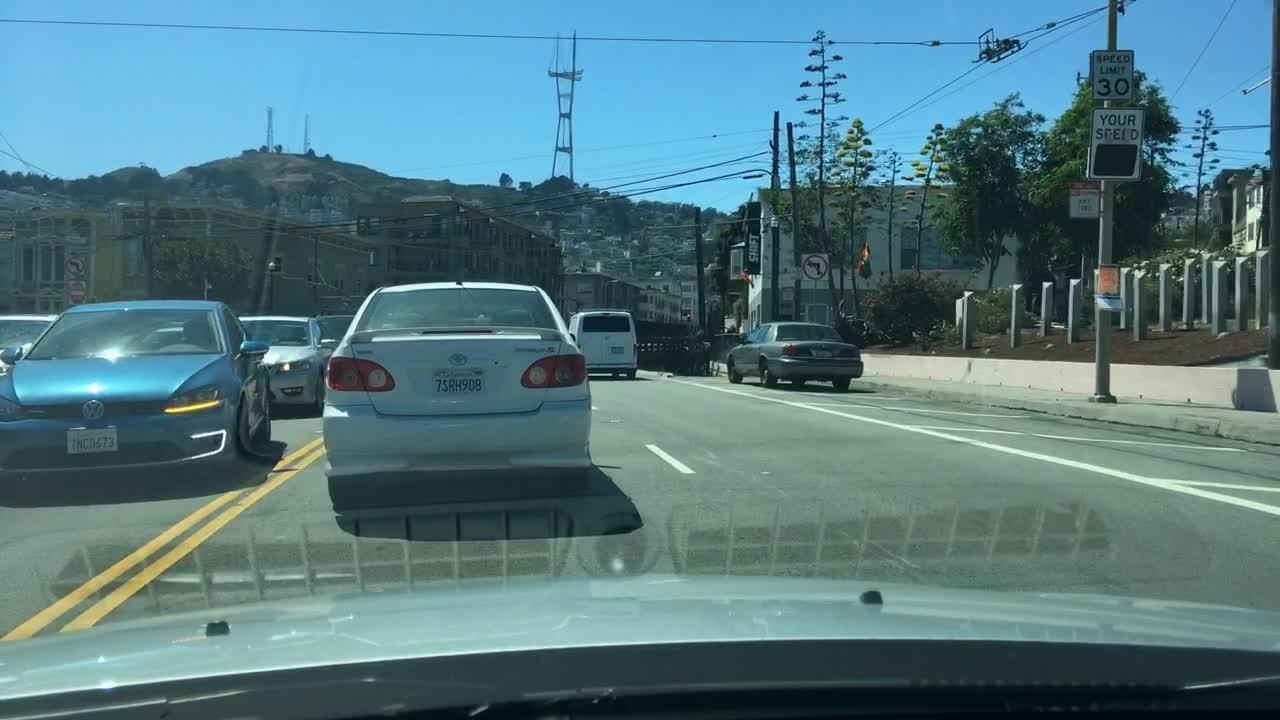Volkswagen: (72, 393, 112, 430)
